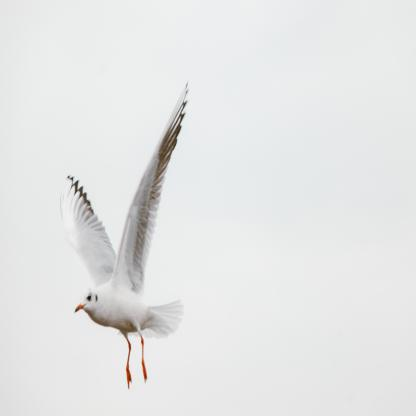bird: (61, 85, 190, 391)
